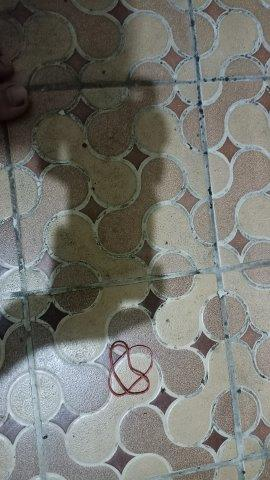karet: (108, 340, 155, 397)
